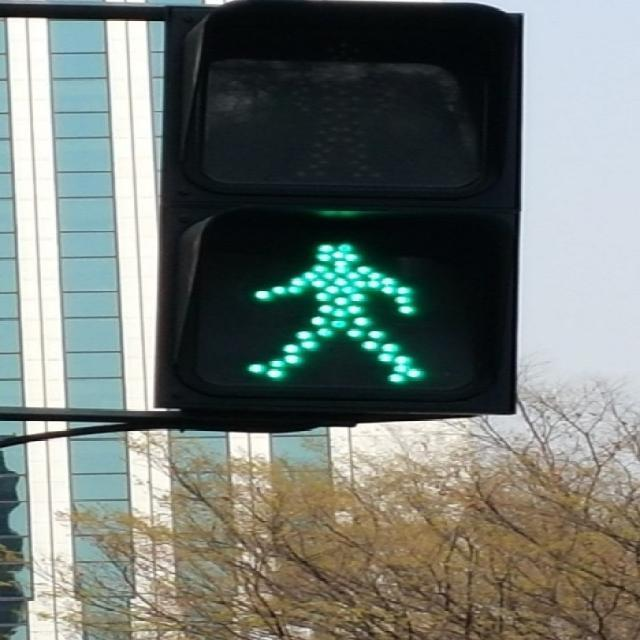green_light: (227, 222, 444, 394)
